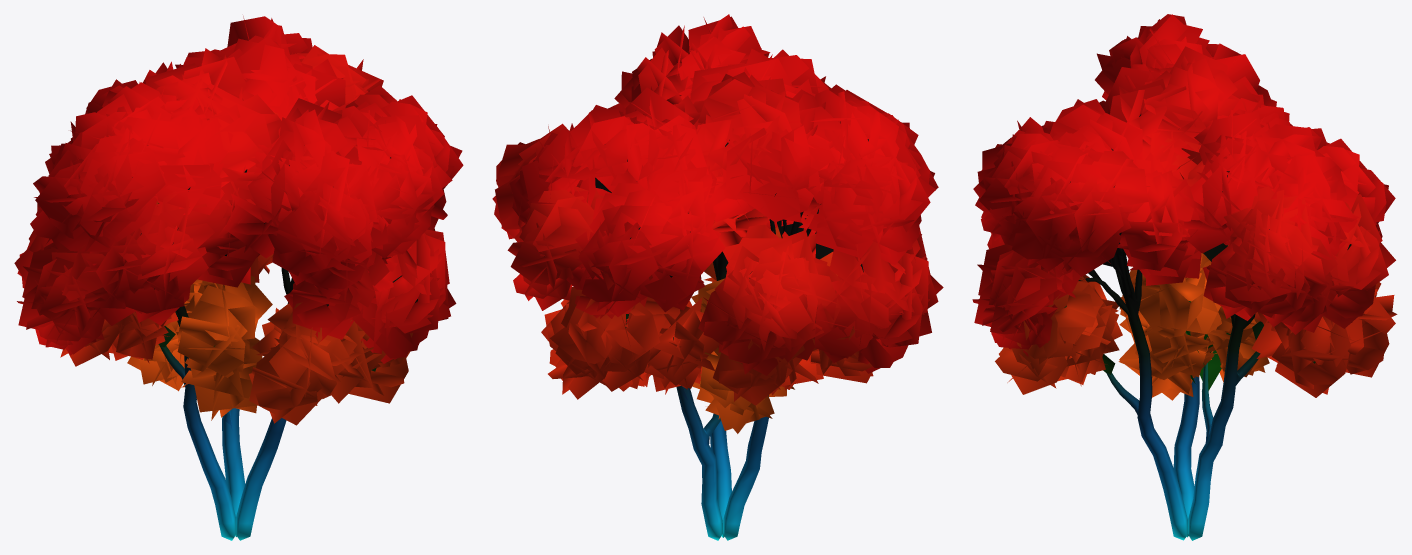
The model's file is Osmanthus6.fbx.
3 renders of one model, left to right at view 1: azimuth 30°, elevation 25°; view 2: azimuth 150°, elevation 25°; view 3: azimuth 270°, elevation 25°, orthographic. The views are drawn at different scales.
Visible parts, largest first — view 1: Osmanthus6_LOD0; view 2: Osmanthus6_LOD0; view 3: Osmanthus6_LOD0.
Part boxes in pixels (x1=…): Osmanthus6_LOD0: x1=14, y1=16, x2=463, y2=540; Osmanthus6_LOD0: x1=492, y1=14, x2=943, y2=540; Osmanthus6_LOD0: x1=972, y1=14, x2=1397, y2=540.
Size of what is drawn, in the model's own units: 625 by 731 by 597.
